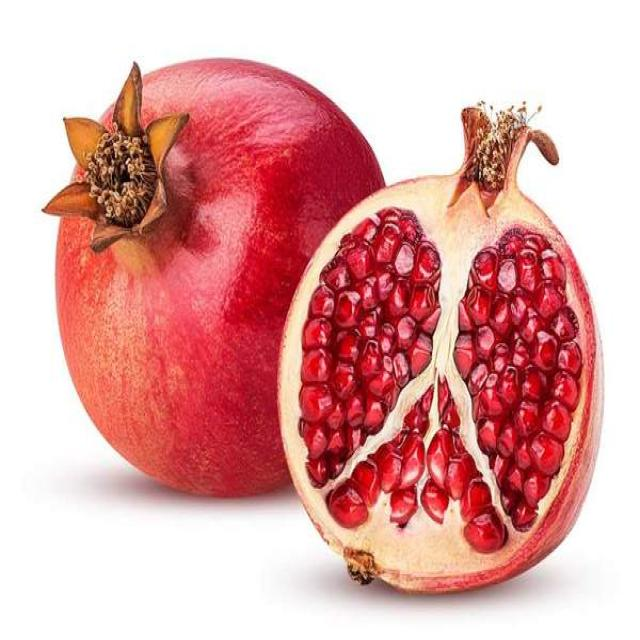Pomegranate: (282, 104, 608, 595), (49, 57, 378, 494)
